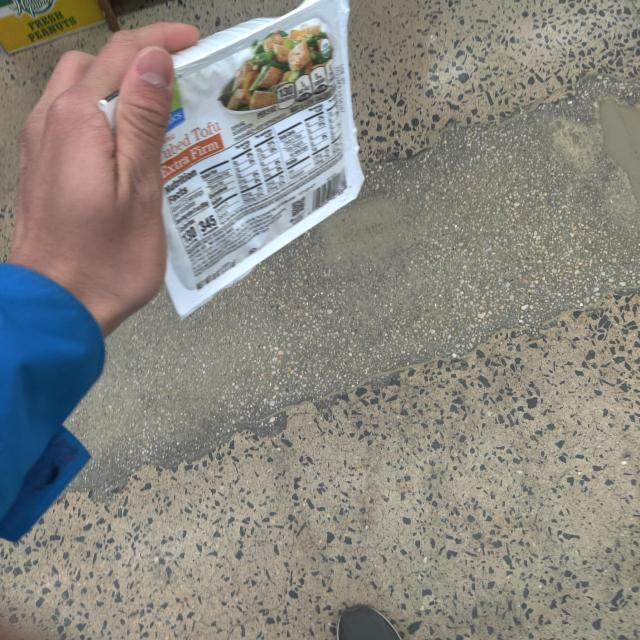Tofu: (79, 0, 403, 312)
